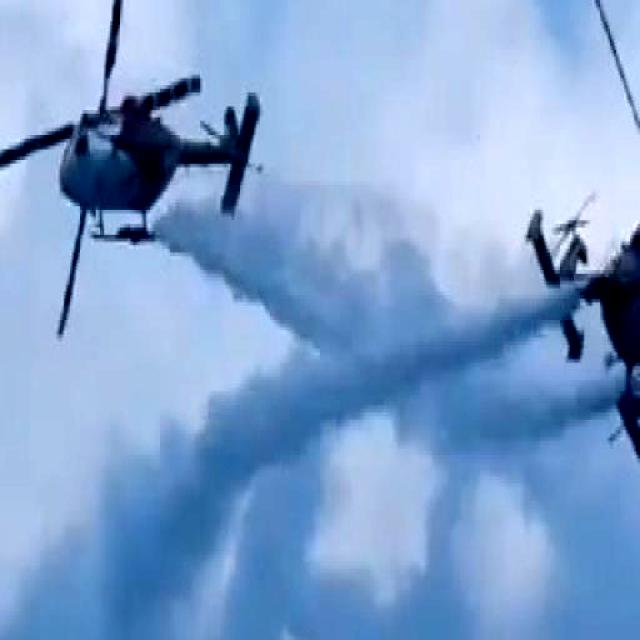drone: (0, 0, 300, 286), (512, 131, 640, 369)
